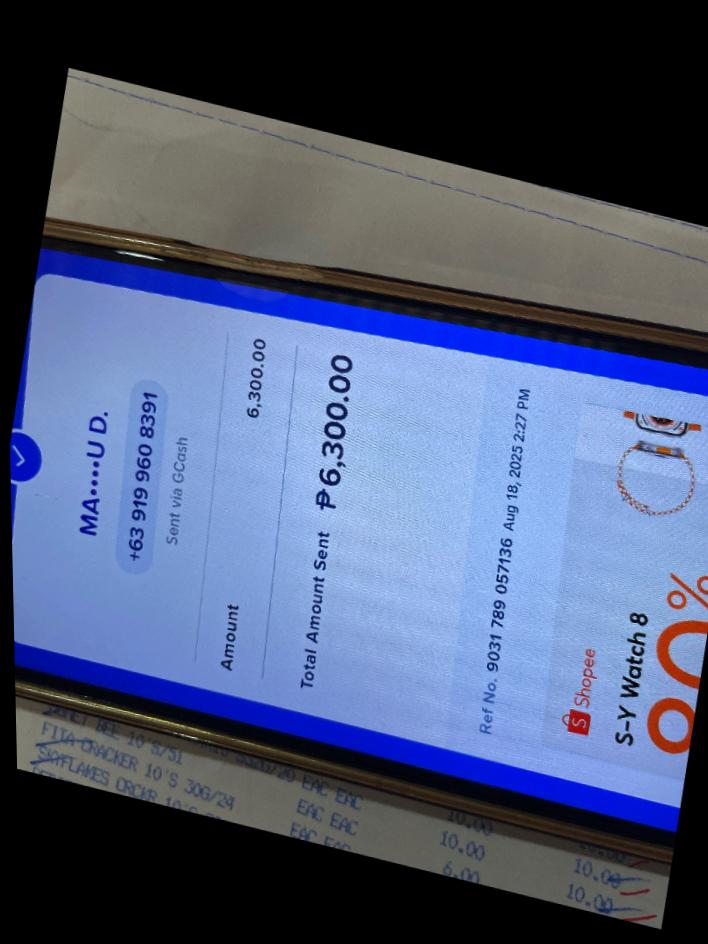Receipt: (10, 249, 708, 830)
